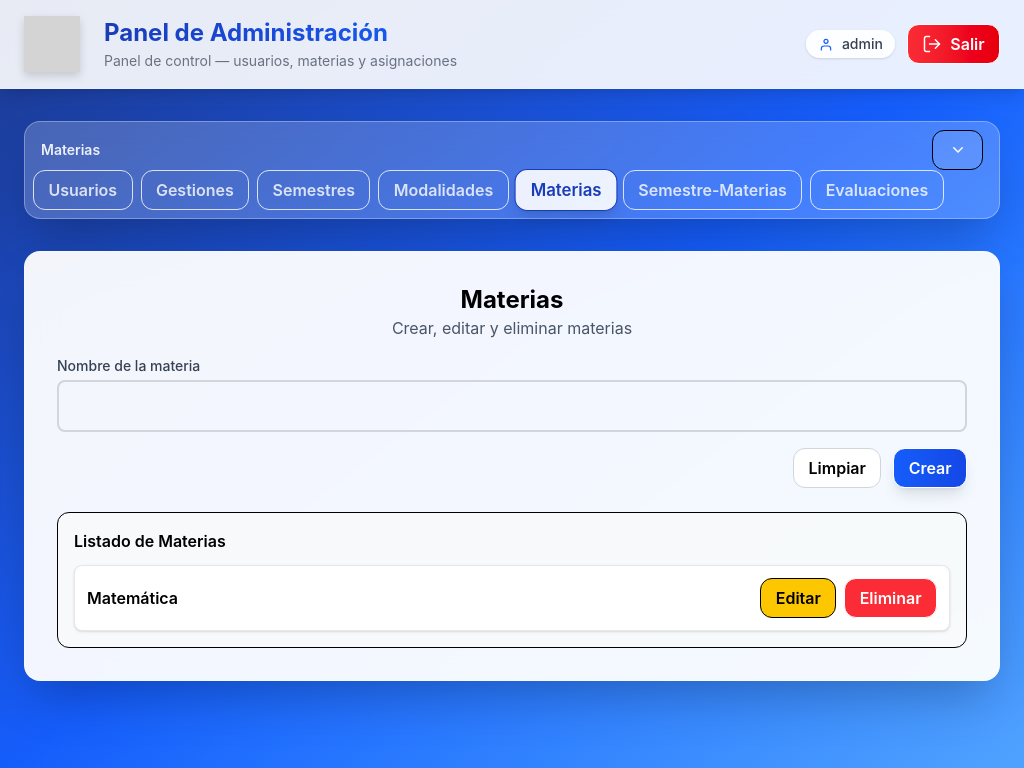
Test: E2E - Admin Materias (CRUD) › edits an existing materia
The image size is (1024, 768).
Expected: the text "Matemática" is shown, [87, 588, 178, 608]
Click the button "Editar": coordinates (798, 598) [760, 578, 836, 618]
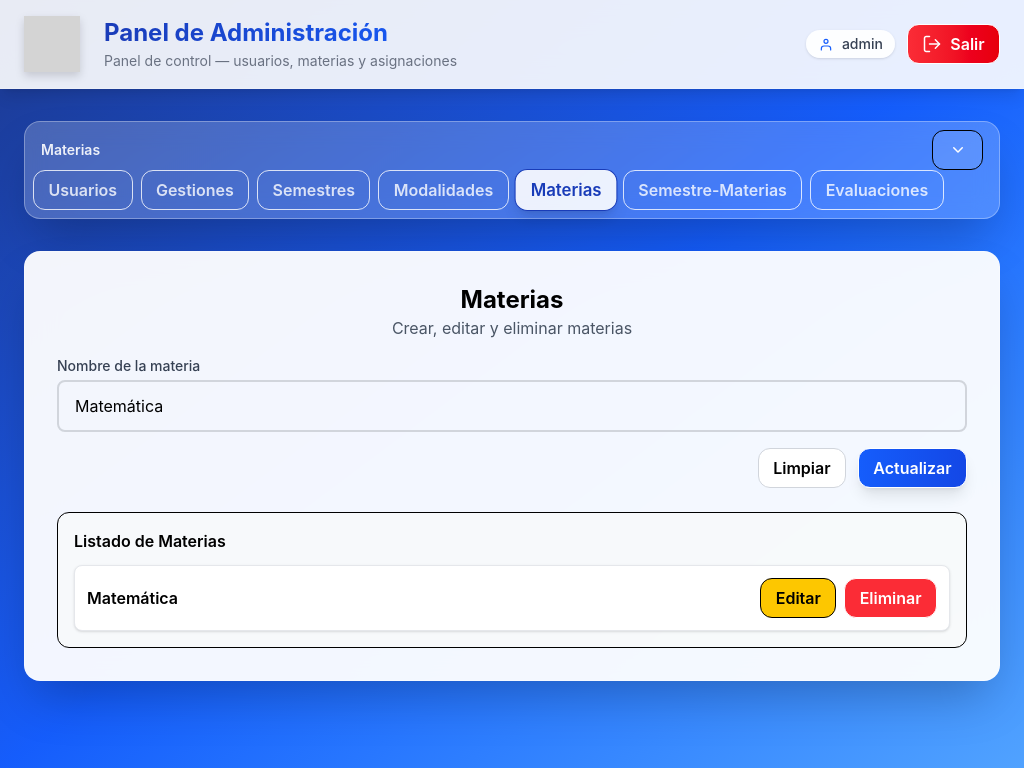
Replace the text in the field named "nombre" with "Matemática Avanzada": coordinates (512, 406) [57, 380, 967, 432]
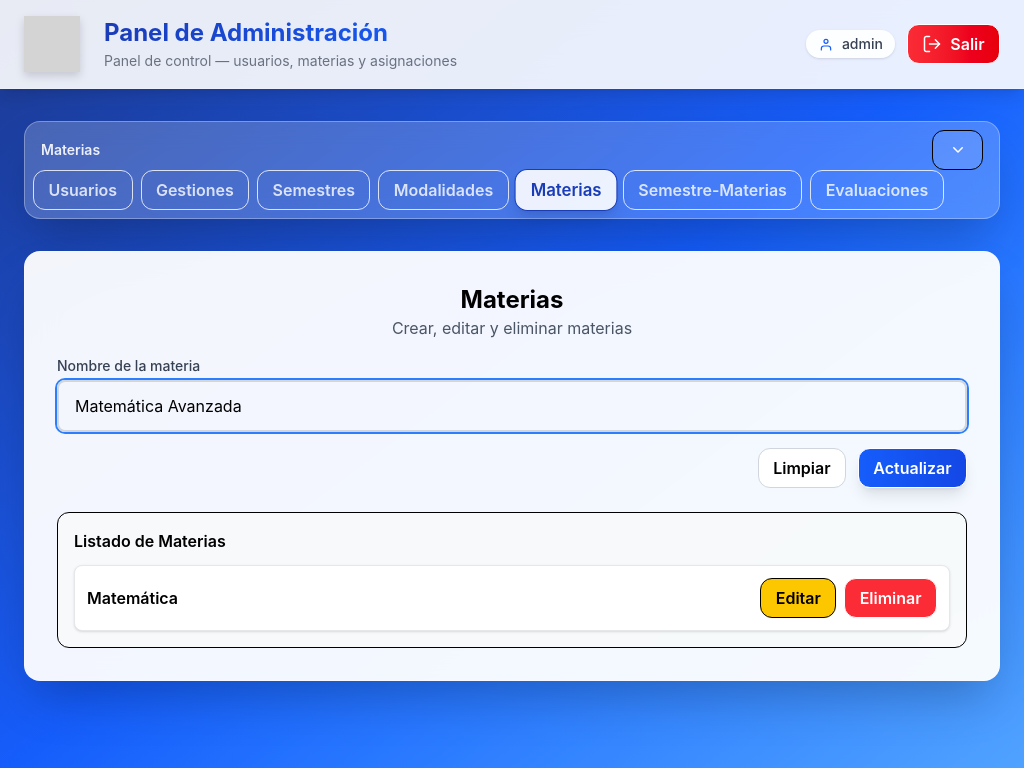
Click the button "Actualizar": coordinates (913, 468) [858, 448, 967, 488]
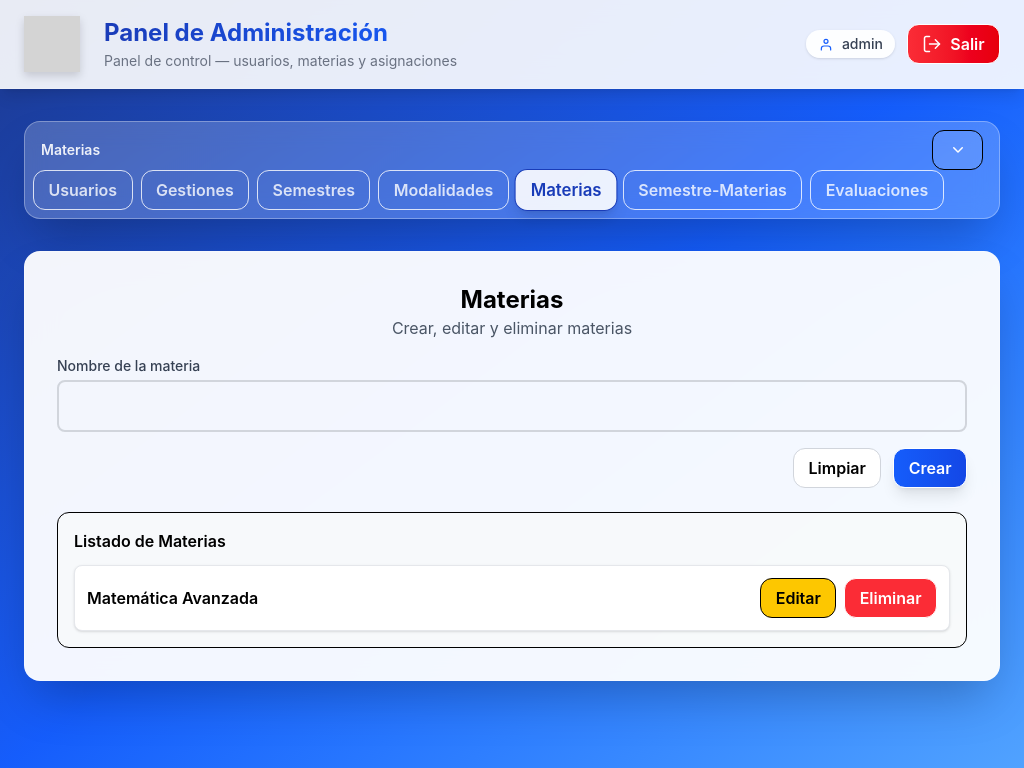
Result: the text "Matemática Avanzada" is shown at [87, 588, 258, 608]
